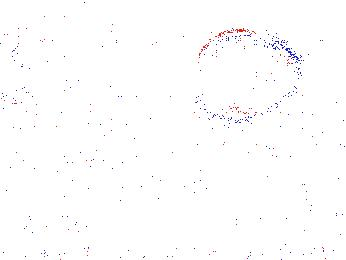moon jellyfish: (190, 30, 296, 119), (27, 1, 112, 79), (1, 45, 44, 108)
